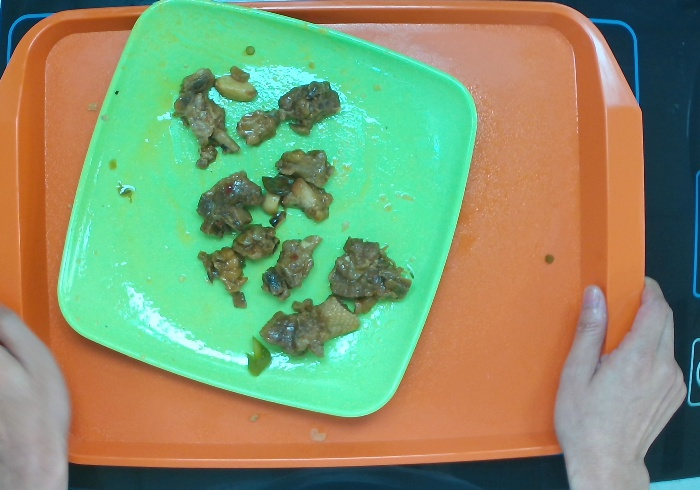ZNLD-Lv_Fang_Pan: (52, 1, 483, 422)
